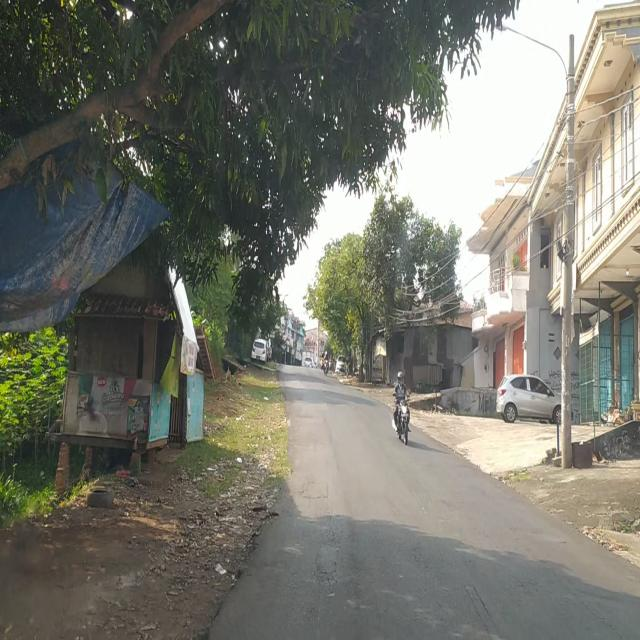Drain Hole: (299, 474, 341, 594)
